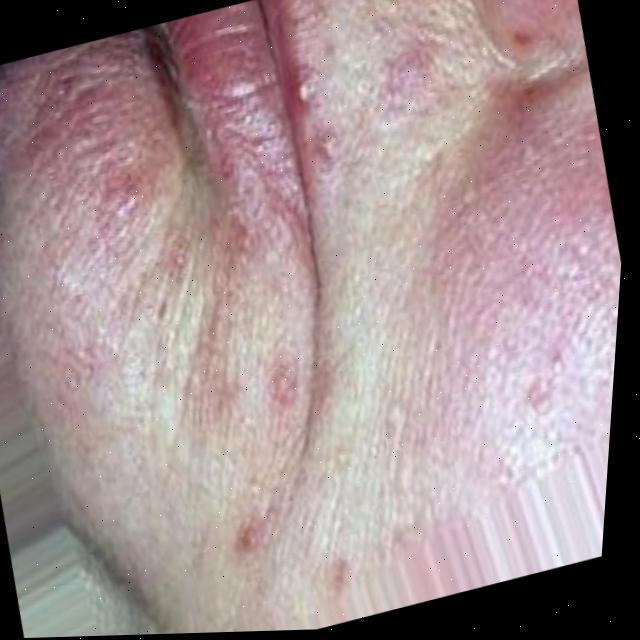Rosacea: (342, 139, 629, 508), (0, 32, 158, 233), (384, 59, 431, 111)
